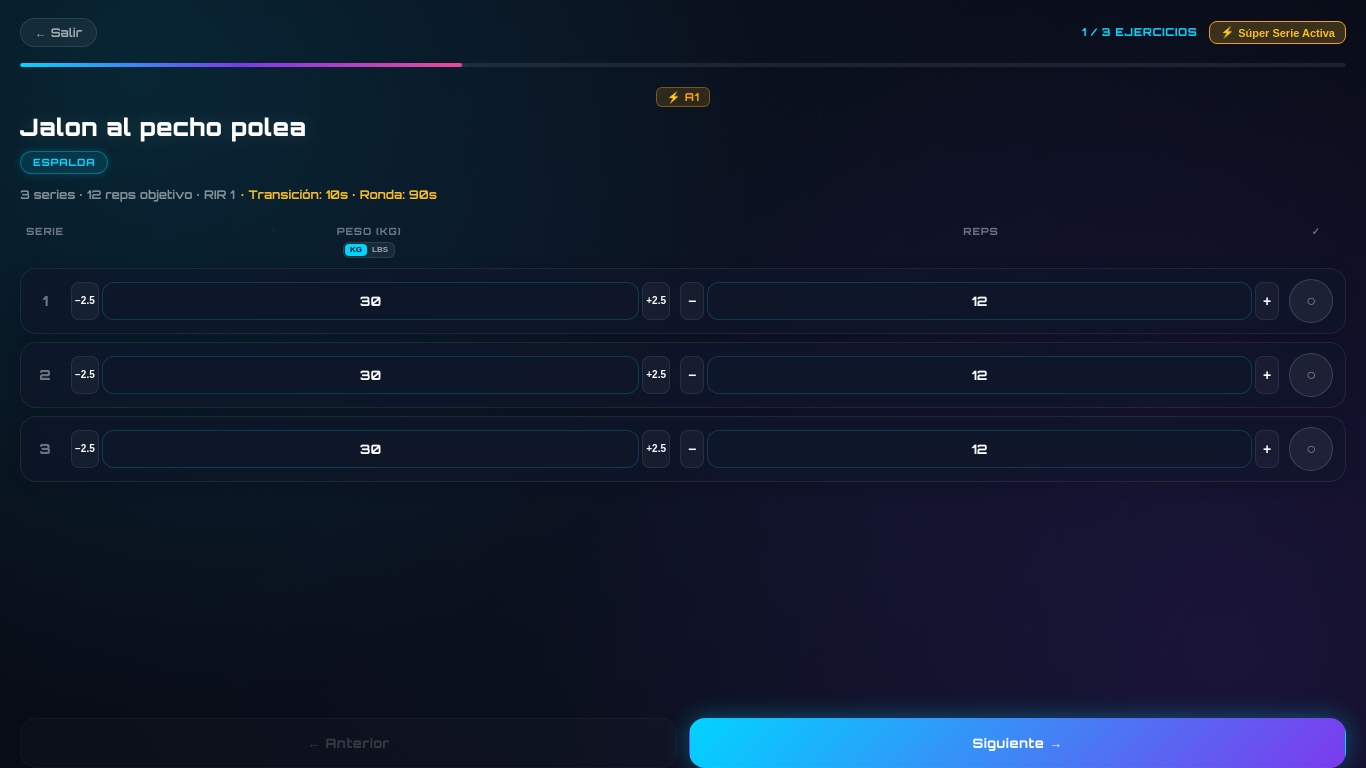
Test case: Preconfigured Superset Flow in ActiveSession › al completar la serie 1 de A1, transiciona automáticamente a A2 e inicia la transición rápida de 10s
Expected: the heading "Jalon al pecho polea" is shown, [20,112,307,142]
// Marcar la serie 1 de Jalón al pecho como completada
Click the button named "Marcar serie 1 como completada" at (1311, 301), box [1289,279,1333,323]
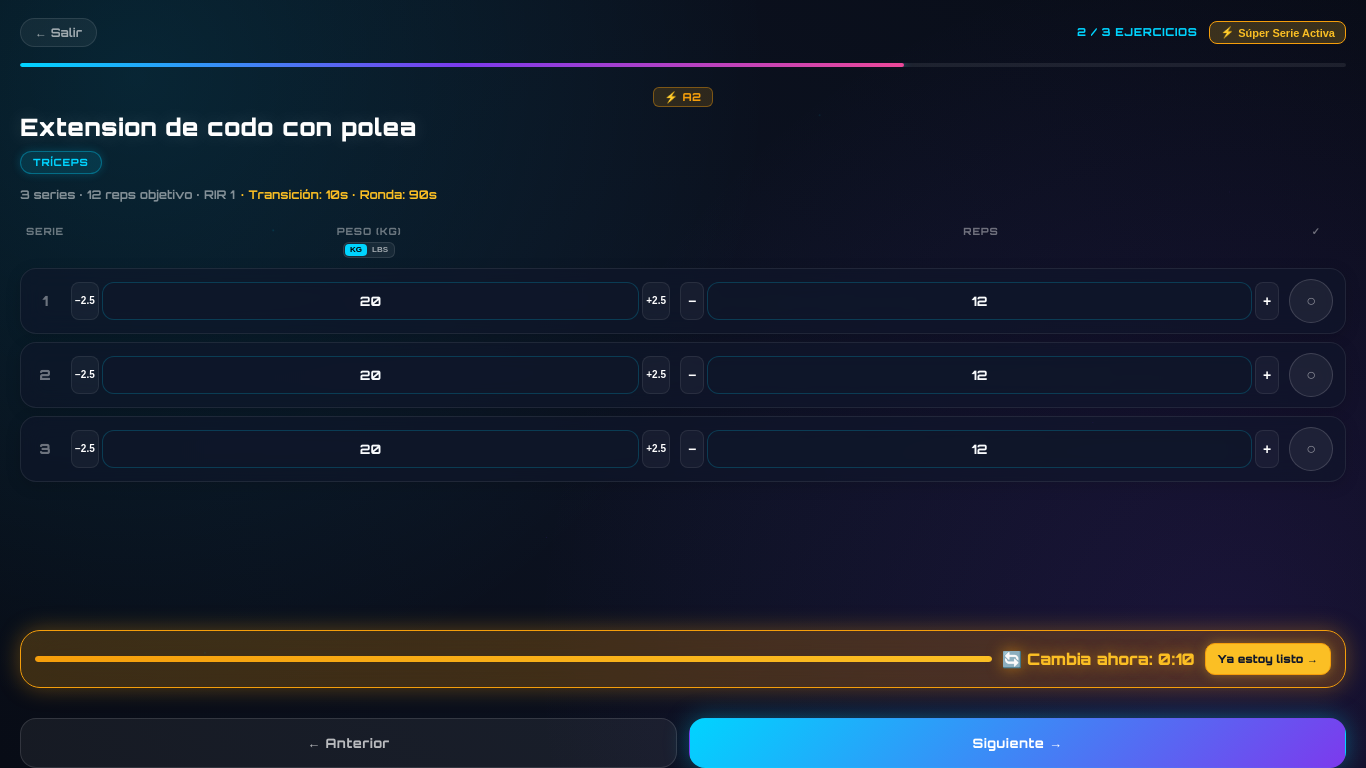
Now the text "🔄 Cambia ahora: 0:10" is shown, box [1002,647,1195,671]
Now the heading "Extension de codo con polea" is shown, box [20,112,417,142]
Now the button "⚡ A2" is shown, box [653,87,713,107]
